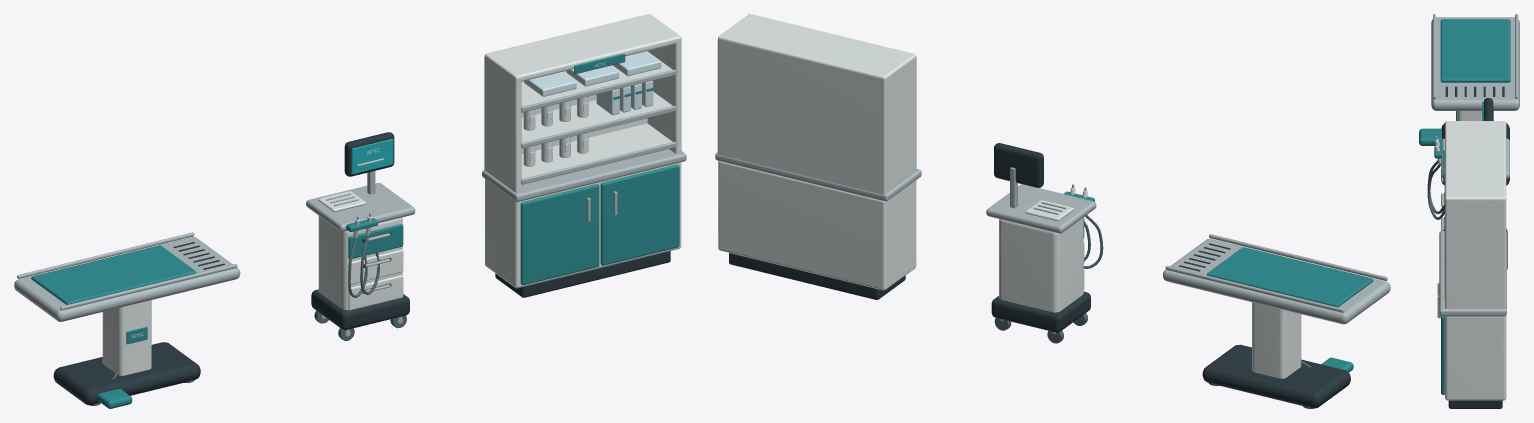
Rendered from vetic-clinic-kit.glb.
3 views of the same model, side by side, from view 1: azimuth 30°, elevation 25°; view 2: azimuth 150°, elevation 25°; view 3: azimuth 270°, elevation 25° (orthographic). The views are drawn at different scales.
Parts seen in each view (by area): view 1: PROP_supply_cabinet__MAT_clinical_porcelain, PROP_supply_cabinet__MAT_vetic_teal, PROP_supply_cabinet__MAT_brushed_steel, PROP_exam_table__MAT_brushed_steel, PROP_dental_cart__MAT_clinical_porcelain, PROP_exam_table__MAT_vetic_teal, PROP_exam_table__MAT_graphite, PROP_supply_cabinet__MAT_sterile_pack, PROP_dental_cart__MAT_brushed_steel, PROP_exam_table__MAT_clinical_porcelain, PROP_dental_cart__MAT_graphite, PROP_supply_cabinet__MAT_graphite (+3 smaller); view 2: PROP_supply_cabinet__MAT_clinical_porcelain, PROP_dental_cart__MAT_clinical_porcelain, PROP_exam_table__MAT_brushed_steel, PROP_exam_table__MAT_vetic_teal, PROP_exam_table__MAT_graphite, PROP_dental_cart__MAT_graphite, PROP_exam_table__MAT_clinical_porcelain, PROP_dental_cart__MAT_brushed_steel, PROP_supply_cabinet__MAT_graphite, PROP_supply_cabinet__MAT_brushed_steel, PROP_dental_cart__MAT_hose_rubber; view 3: PROP_supply_cabinet__MAT_clinical_porcelain, PROP_exam_table__MAT_vetic_teal, PROP_exam_table__MAT_brushed_steel, PROP_supply_cabinet__MAT_brushed_steel, PROP_supply_cabinet__MAT_graphite, PROP_dental_cart__MAT_brushed_steel, PROP_supply_cabinet__MAT_vetic_teal, PROP_exam_table__MAT_graphite, PROP_dental_cart__MAT_hose_rubber, PROP_dental_cart__MAT_graphite, PROP_exam_table__MAT_clinical_porcelain, PROP_dental_cart__MAT_vetic_teal.
Boxes of the visible parts, x1,y1,x2,y2 form: PROP_supply_cabinet__MAT_clinical_porcelain: [484, 14, 681, 288]; PROP_supply_cabinet__MAT_vetic_teal: [520, 53, 679, 284]; PROP_supply_cabinet__MAT_brushed_steel: [482, 69, 686, 221]; PROP_exam_table__MAT_brushed_steel: [14, 232, 240, 321]; PROP_dental_cart__MAT_clinical_porcelain: [318, 148, 403, 310]; PROP_exam_table__MAT_vetic_teal: [31, 245, 196, 408]; PROP_exam_table__MAT_graphite: [53, 242, 224, 405]; PROP_supply_cabinet__MAT_sterile_pack: [524, 51, 661, 160]; PROP_dental_cart__MAT_brushed_steel: [306, 171, 415, 336]; PROP_exam_table__MAT_clinical_porcelain: [102, 300, 151, 375]; PROP_dental_cart__MAT_graphite: [311, 132, 409, 329]; PROP_supply_cabinet__MAT_graphite: [495, 251, 670, 297]; PROP_supply_cabinet__MAT_clinical_porcelain: [717, 14, 916, 290]; PROP_dental_cart__MAT_clinical_porcelain: [999, 187, 1087, 312]; PROP_exam_table__MAT_brushed_steel: [1163, 234, 1390, 324]; PROP_exam_table__MAT_vetic_teal: [1207, 247, 1373, 372]; PROP_exam_table__MAT_graphite: [1179, 243, 1350, 408]; PROP_dental_cart__MAT_graphite: [991, 143, 1090, 332]; PROP_exam_table__MAT_clinical_porcelain: [1252, 302, 1301, 378]; PROP_dental_cart__MAT_brushed_steel: [986, 167, 1096, 334]; PROP_supply_cabinet__MAT_graphite: [729, 253, 905, 299]; PROP_supply_cabinet__MAT_brushed_steel: [715, 152, 921, 201]; PROP_dental_cart__MAT_hose_rubber: [994, 215, 1103, 343]; PROP_supply_cabinet__MAT_clinical_porcelain: [1445, 121, 1506, 400]; PROP_exam_table__MAT_vetic_teal: [1419, 19, 1510, 145]; PROP_exam_table__MAT_brushed_steel: [1431, 14, 1519, 110]; PROP_supply_cabinet__MAT_brushed_steel: [1437, 181, 1506, 318]; PROP_supply_cabinet__MAT_graphite: [1448, 400, 1502, 408]; PROP_dental_cart__MAT_brushed_steel: [1435, 136, 1509, 230]; PROP_supply_cabinet__MAT_vetic_teal: [1441, 150, 1444, 394]; PROP_exam_table__MAT_graphite: [1441, 86, 1509, 185]; PROP_dental_cart__MAT_hose_rubber: [1427, 160, 1444, 219]; PROP_dental_cart__MAT_graphite: [1444, 98, 1507, 269]; PROP_exam_table__MAT_clinical_porcelain: [1457, 111, 1493, 120]; PROP_dental_cart__MAT_vetic_teal: [1434, 141, 1442, 158].
Size of what is drawn, in the model's own units: 5.69 by 1.94 by 0.82.
